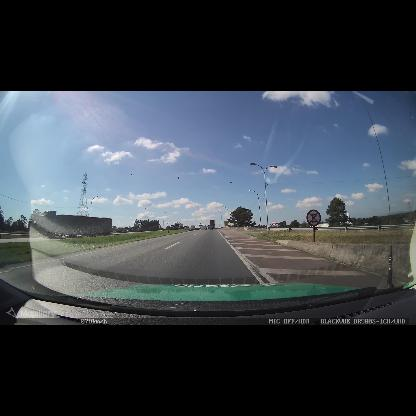R-2: (283, 221, 286, 225)
R-24a: (273, 221, 276, 226)
R-6c: (306, 209, 321, 226)
